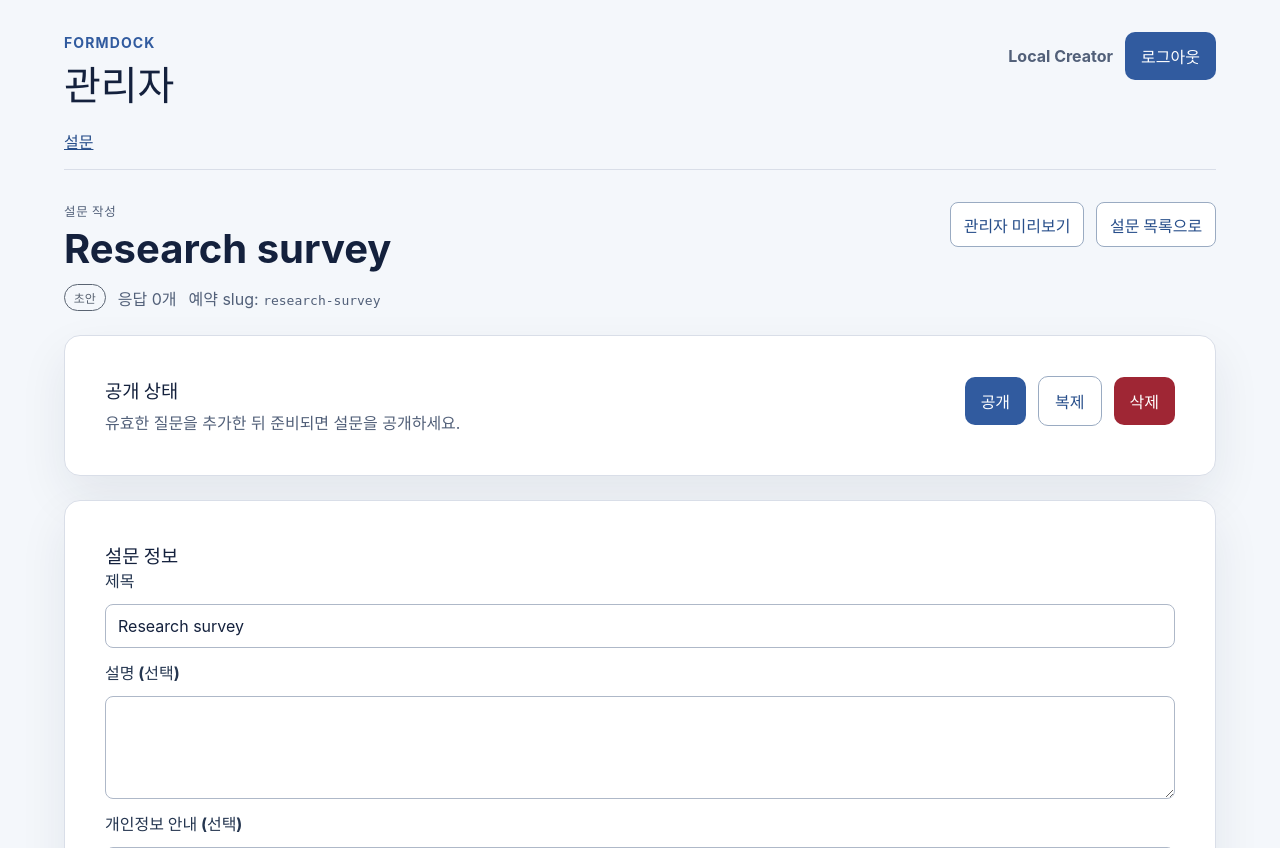
Test case: Survey Creator workflow › should_confirmSoftDelete_andReturnToSurveyList
Click the button "삭제" at (1144, 401), box [1114,377,1175,425]
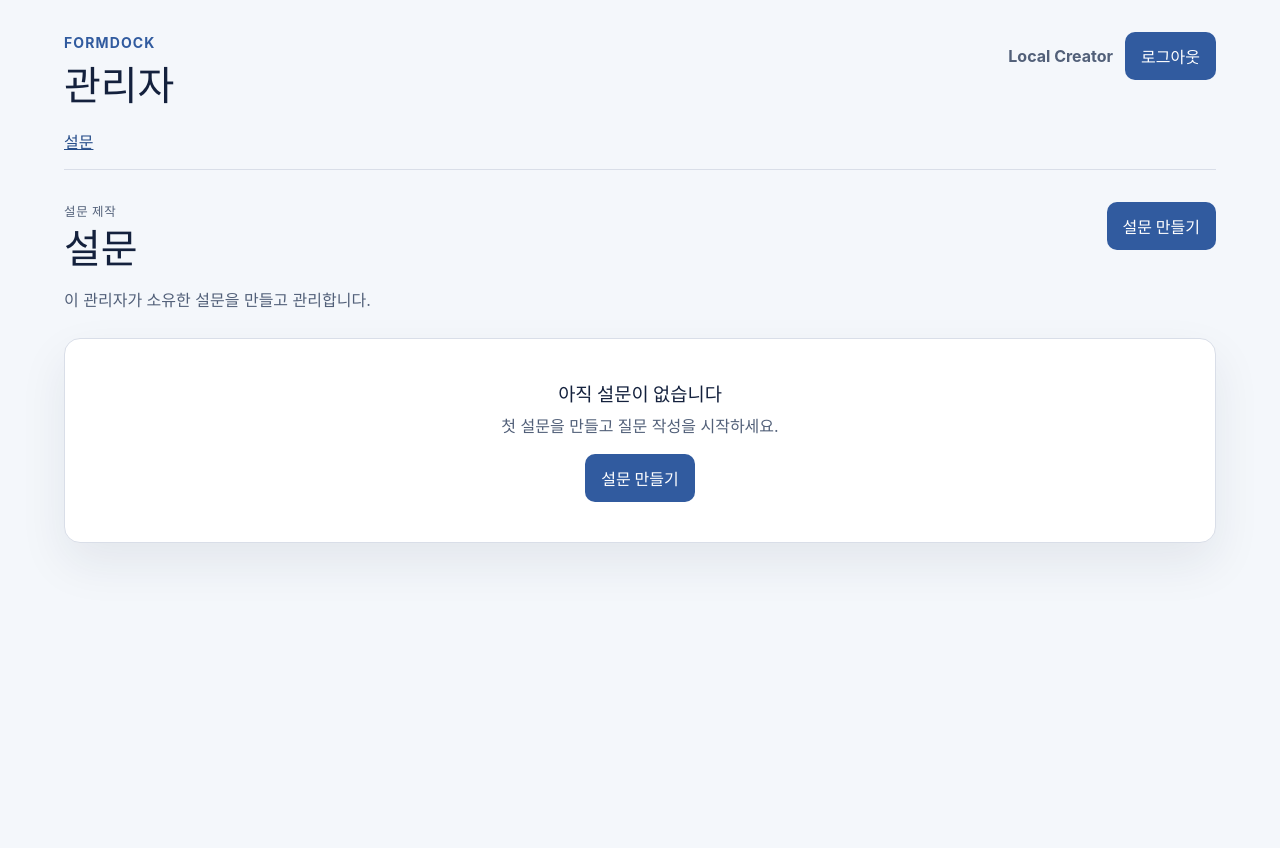
Check: the heading "아직 설문이 없습니다" is shown, box [558,383,722,406]
